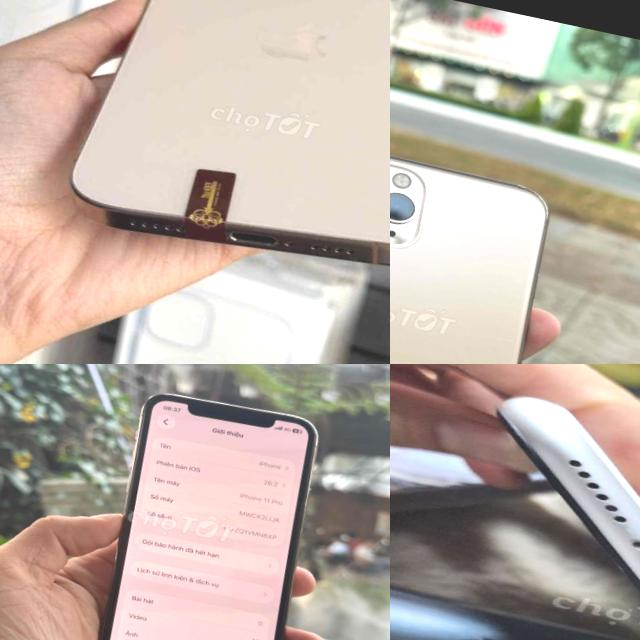gen_11: (86, 382, 336, 640), (390, 125, 586, 364), (497, 396, 640, 592)
gen_16: (55, 0, 390, 305)
